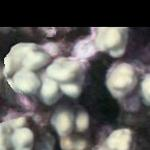alive: (1, 28, 148, 146), (5, 29, 147, 147)
